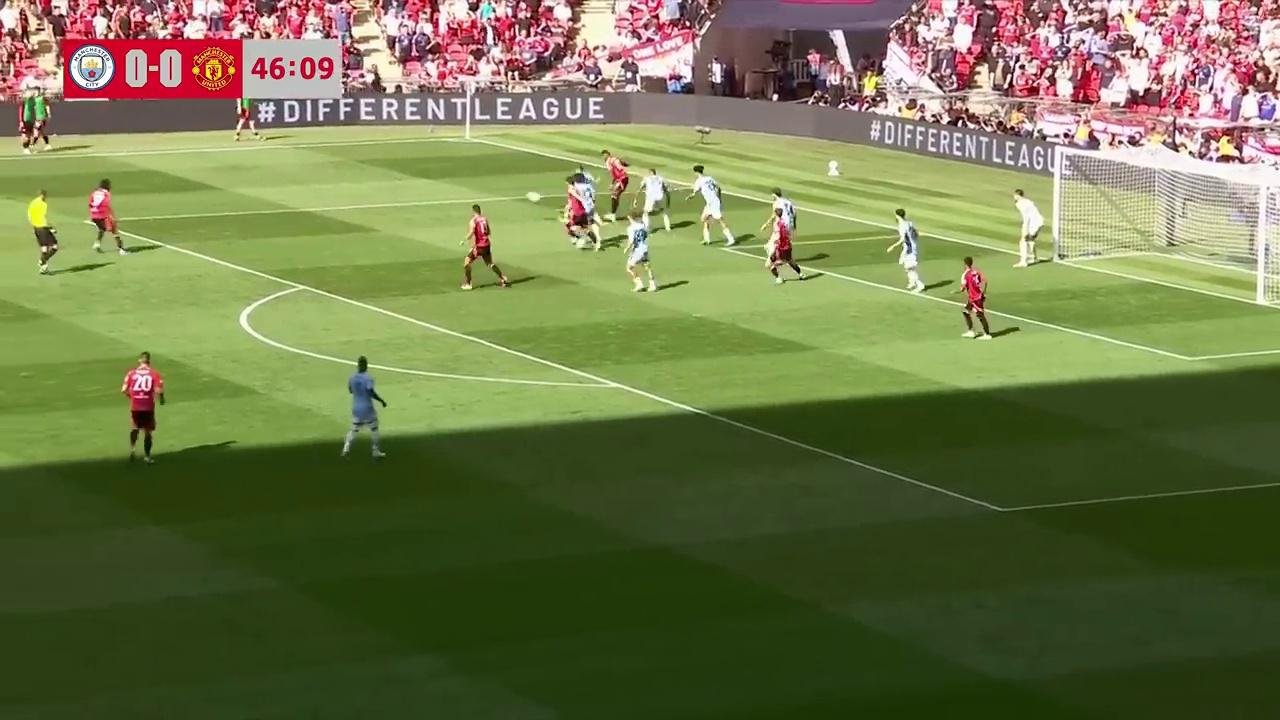ball: (524, 187, 543, 203)
player: (340, 356, 388, 461), (121, 351, 165, 464), (460, 205, 507, 288), (690, 168, 732, 247), (959, 257, 992, 339), (87, 179, 123, 253), (624, 212, 657, 292), (890, 212, 923, 292), (765, 215, 802, 285), (1013, 189, 1042, 267), (561, 180, 592, 249), (639, 167, 671, 230), (566, 166, 599, 225), (770, 188, 798, 249), (603, 151, 628, 217)
referee: (27, 190, 58, 273)
